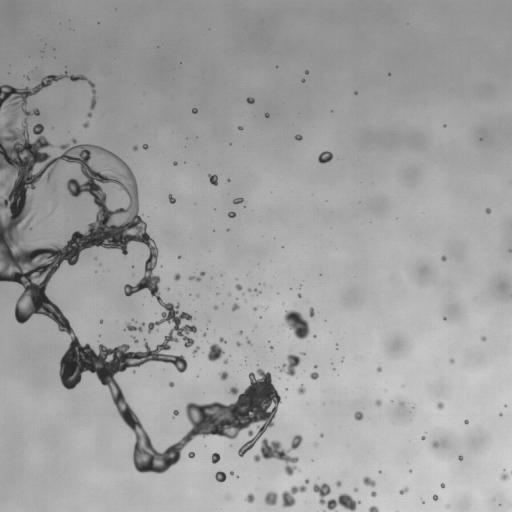droplet: (253, 434, 302, 475), (312, 483, 360, 511), (282, 310, 310, 339), (278, 354, 300, 376), (207, 343, 224, 361), (125, 319, 144, 331), (264, 491, 277, 505), (318, 151, 332, 163), (362, 476, 375, 487), (215, 471, 226, 482), (208, 174, 218, 185), (500, 469, 509, 481), (219, 371, 229, 380), (245, 493, 254, 503), (354, 411, 363, 420), (211, 453, 219, 463), (297, 385, 305, 394), (233, 197, 243, 204), (168, 194, 175, 203), (399, 487, 408, 494), (231, 303, 239, 310), (310, 372, 318, 379), (309, 307, 314, 317), (437, 402, 444, 409), (246, 97, 254, 103), (228, 211, 236, 217), (295, 134, 302, 140), (174, 273, 180, 280), (235, 284, 242, 290), (375, 399, 381, 406), (432, 441, 438, 448), (188, 451, 194, 458), (246, 339, 252, 345), (376, 366, 382, 372), (173, 410, 178, 417), (132, 145, 137, 151), (142, 144, 148, 149), (441, 255, 446, 261), (219, 337, 225, 342), (480, 336, 486, 341), (371, 491, 376, 497), (433, 494, 438, 500), (192, 108, 197, 113), (83, 122, 88, 127), (253, 306, 258, 311), (236, 341, 241, 346), (223, 359, 228, 364), (336, 481, 341, 486), (87, 112, 91, 117), (238, 126, 243, 130), (486, 208, 490, 213), (449, 359, 454, 363), (169, 382, 174, 386), (464, 419, 468, 424), (458, 455, 462, 460), (265, 113, 269, 117), (173, 161, 177, 165), (0, 181, 4, 185), (213, 305, 217, 309), (440, 483, 444, 487), (53, 205, 56, 210), (247, 288, 252, 291), (298, 293, 301, 297), (270, 346, 273, 350), (399, 402, 403, 405), (421, 436, 425, 439), (446, 504, 449, 508), (305, 71, 308, 74), (239, 331, 242, 334), (203, 333, 206, 336), (314, 365, 317, 368), (230, 471, 233, 474), (354, 488, 357, 491), (302, 79, 304, 82), (227, 179, 230, 181), (509, 249, 511, 252), (313, 335, 316, 337), (301, 352, 304, 354), (341, 358, 344, 360), (320, 434, 323, 436), (230, 444, 232, 447), (409, 470, 412, 472), (354, 92, 356, 94), (178, 256, 180, 258), (167, 288, 169, 290), (443, 317, 445, 319), (100, 320, 102, 322), (227, 496, 229, 498)
ligament: (0, 79, 281, 473), (281, 479, 309, 507), (189, 271, 205, 281), (368, 506, 379, 511), (193, 346, 199, 355), (132, 335, 138, 343), (254, 288, 260, 294)
